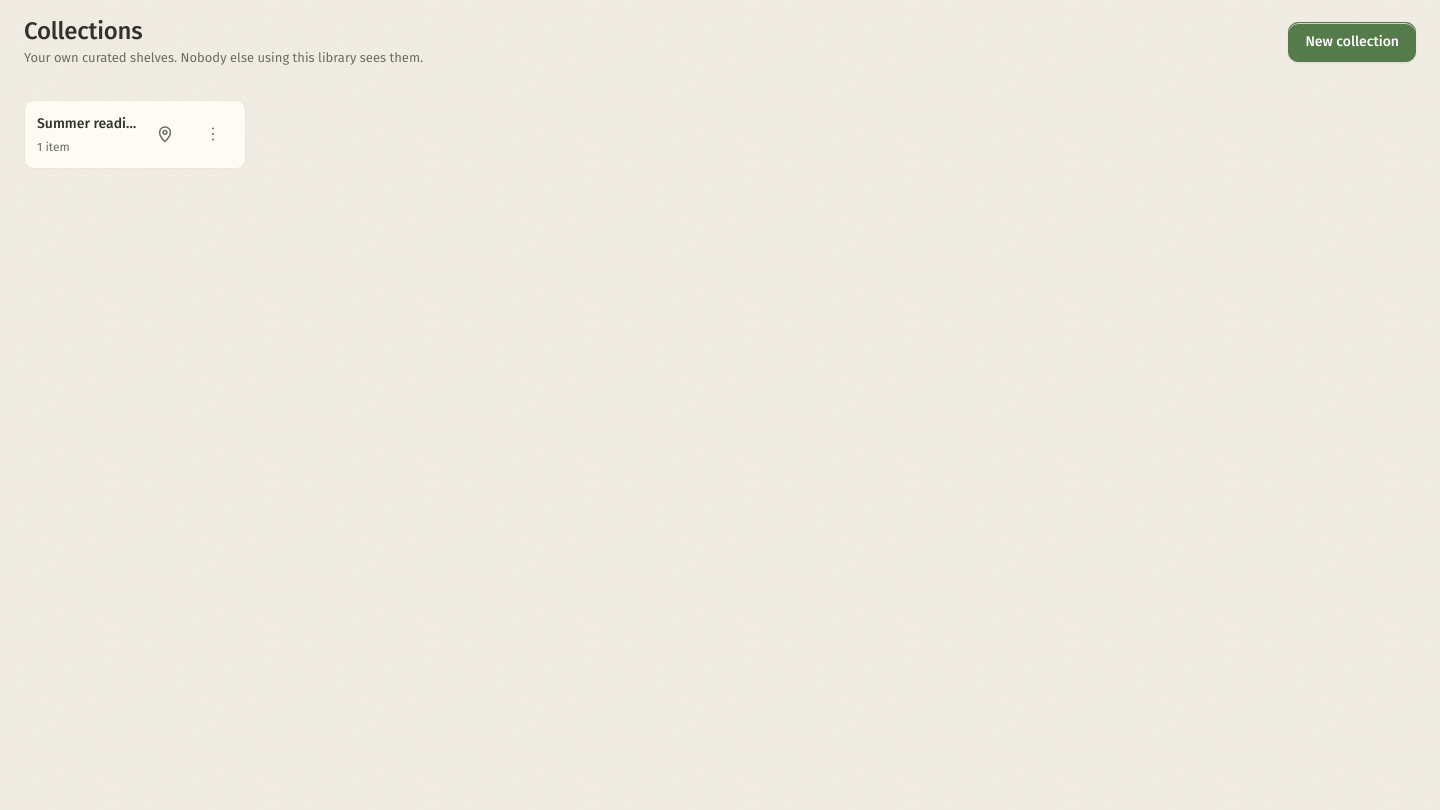
Scenario: CollectionsPage › renames a collection
This screenshot has width=1440, height=810.
expect the list with test id "collections-grid" is shown: met, box [24, 100, 246, 168]
Click the button with test id "open-collection-Summer reading". click: [87, 134]
box: [37, 112, 137, 156]
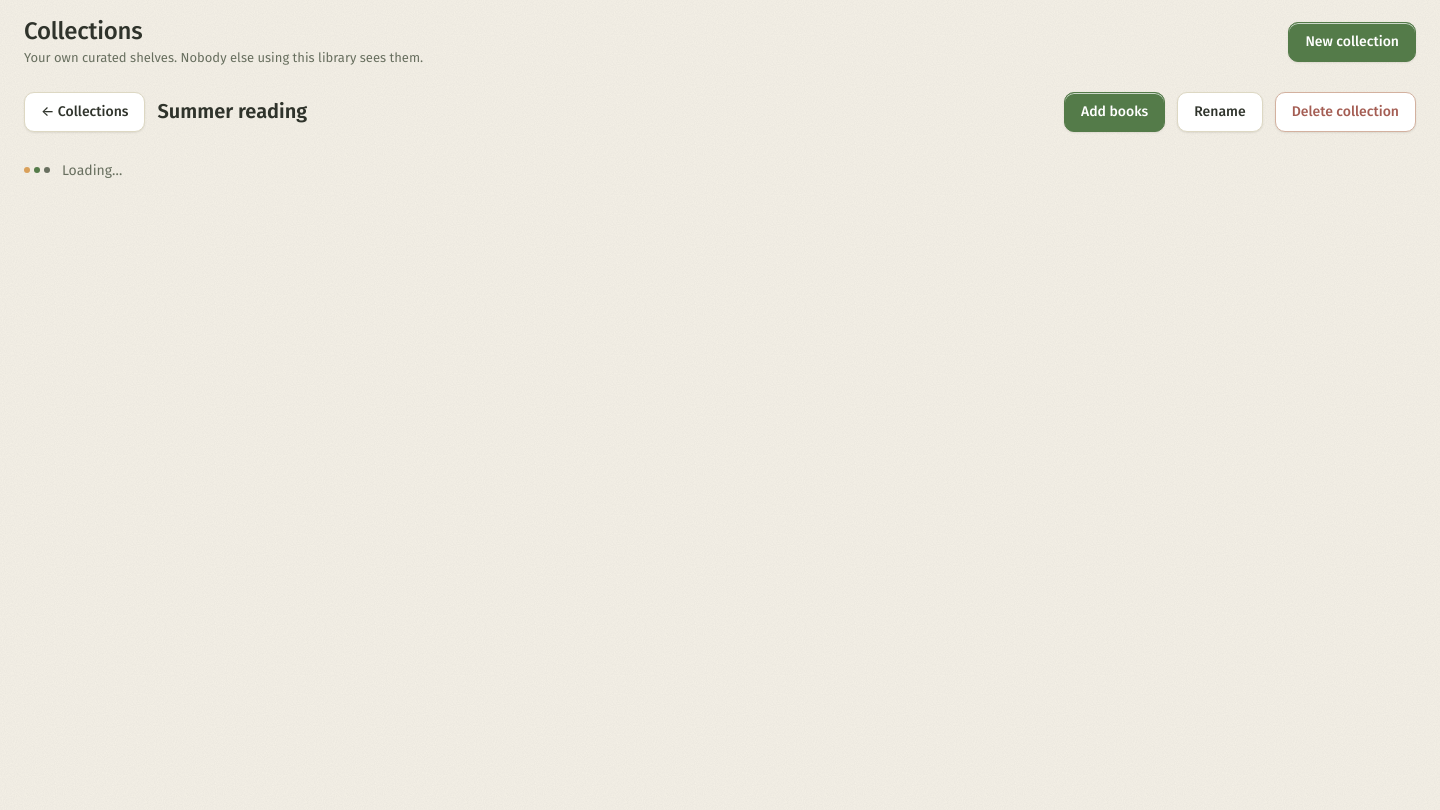
expect the element with test id "collection-detail" is shown: met, box [24, 92, 1416, 192]
Click the button "Rename". click: [1220, 112]
box: [1177, 92, 1263, 132]
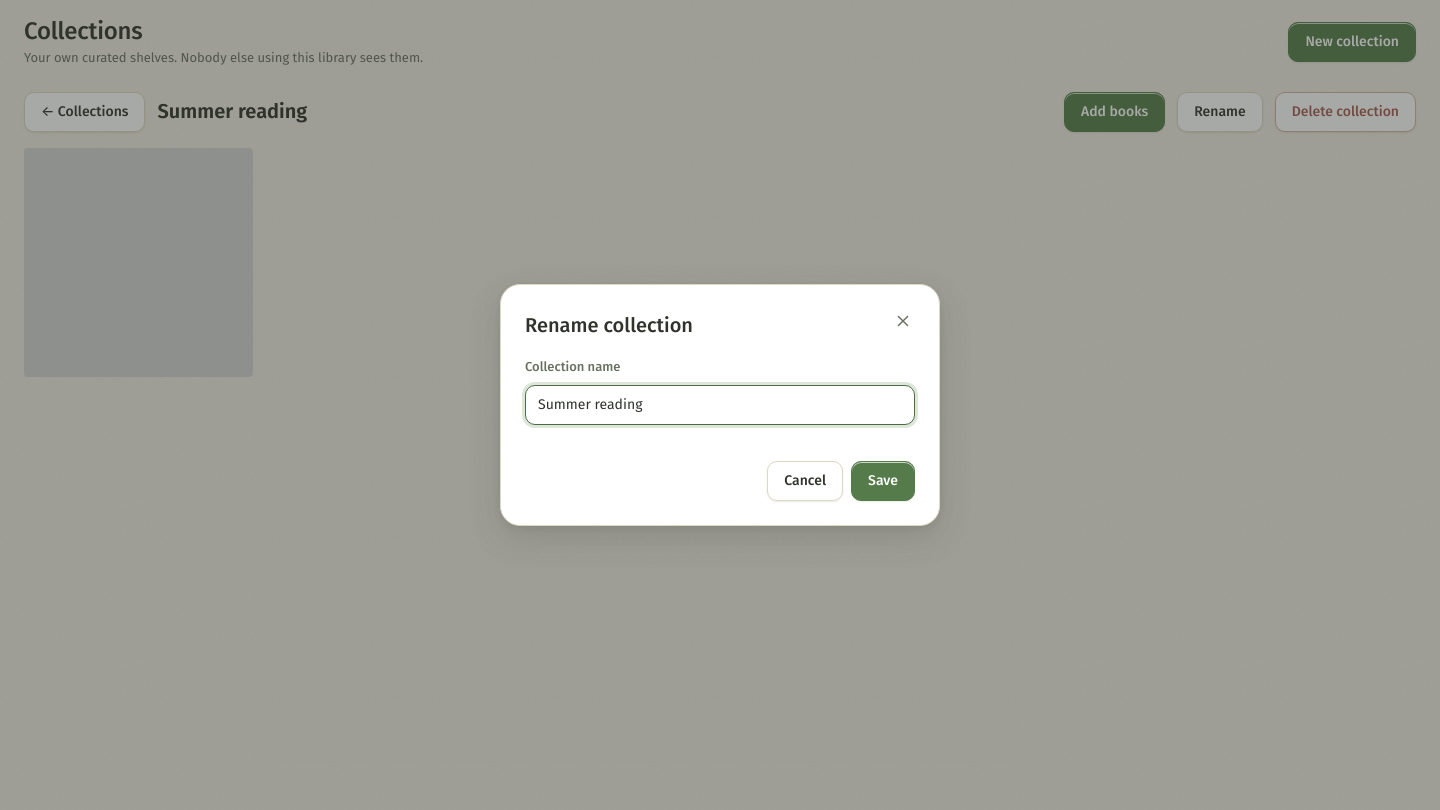
Replace the text in the field labelled "Collection name" with "Winter reading". click: [720, 405]
box: [525, 385, 915, 425]
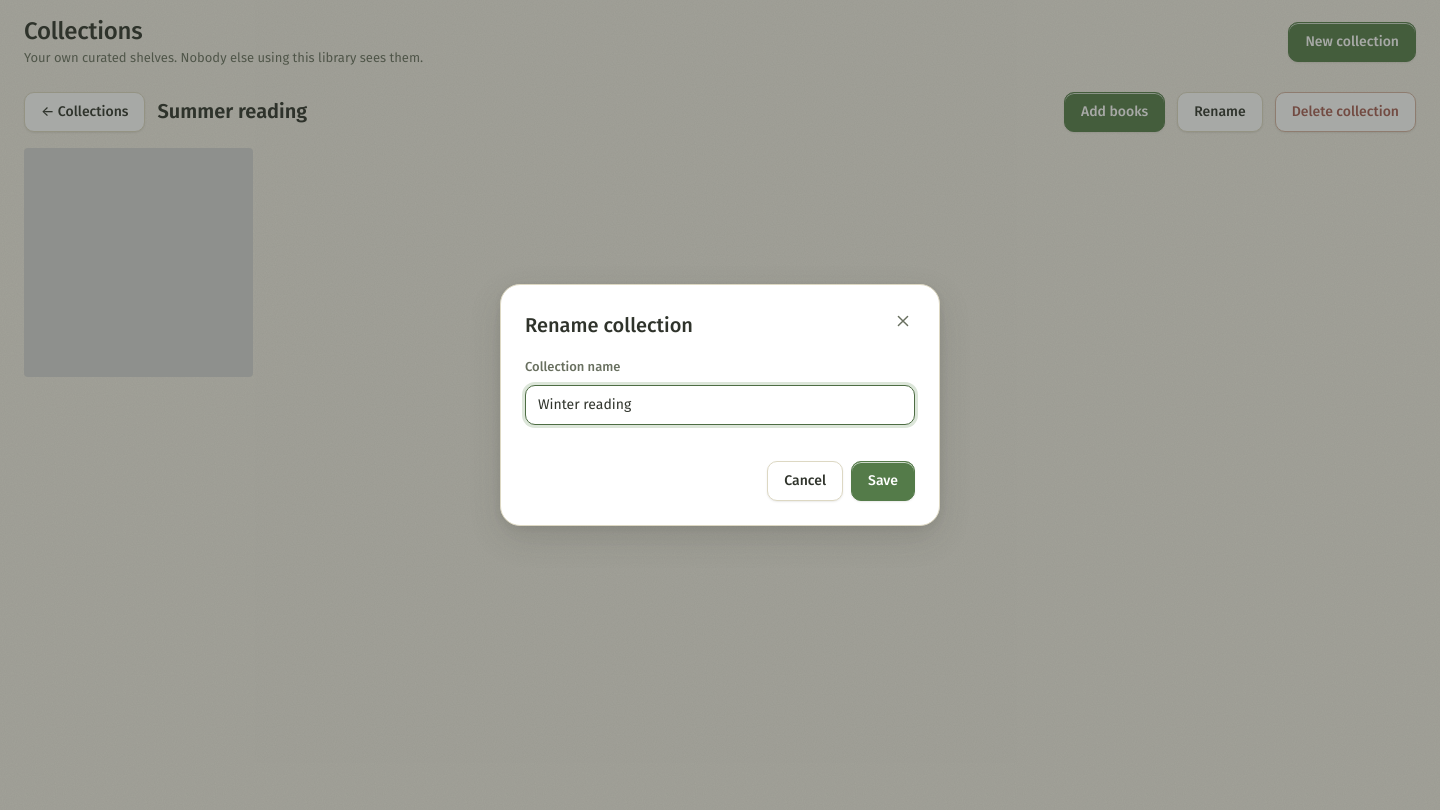
Click the button "Save". click: [883, 481]
box: [851, 461, 915, 501]
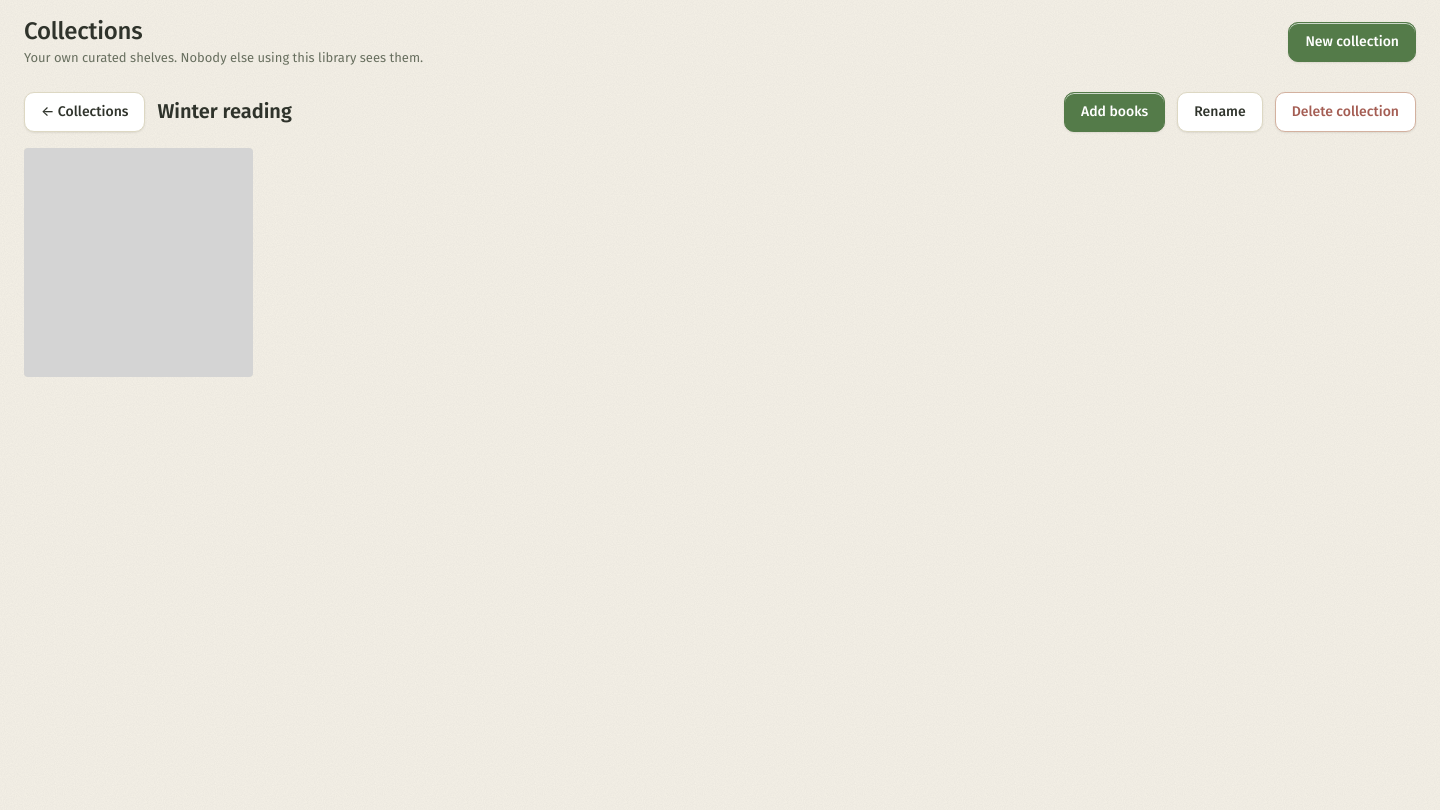
expect the heading "Winter reading" is shown: met, box [158, 99, 292, 123]
